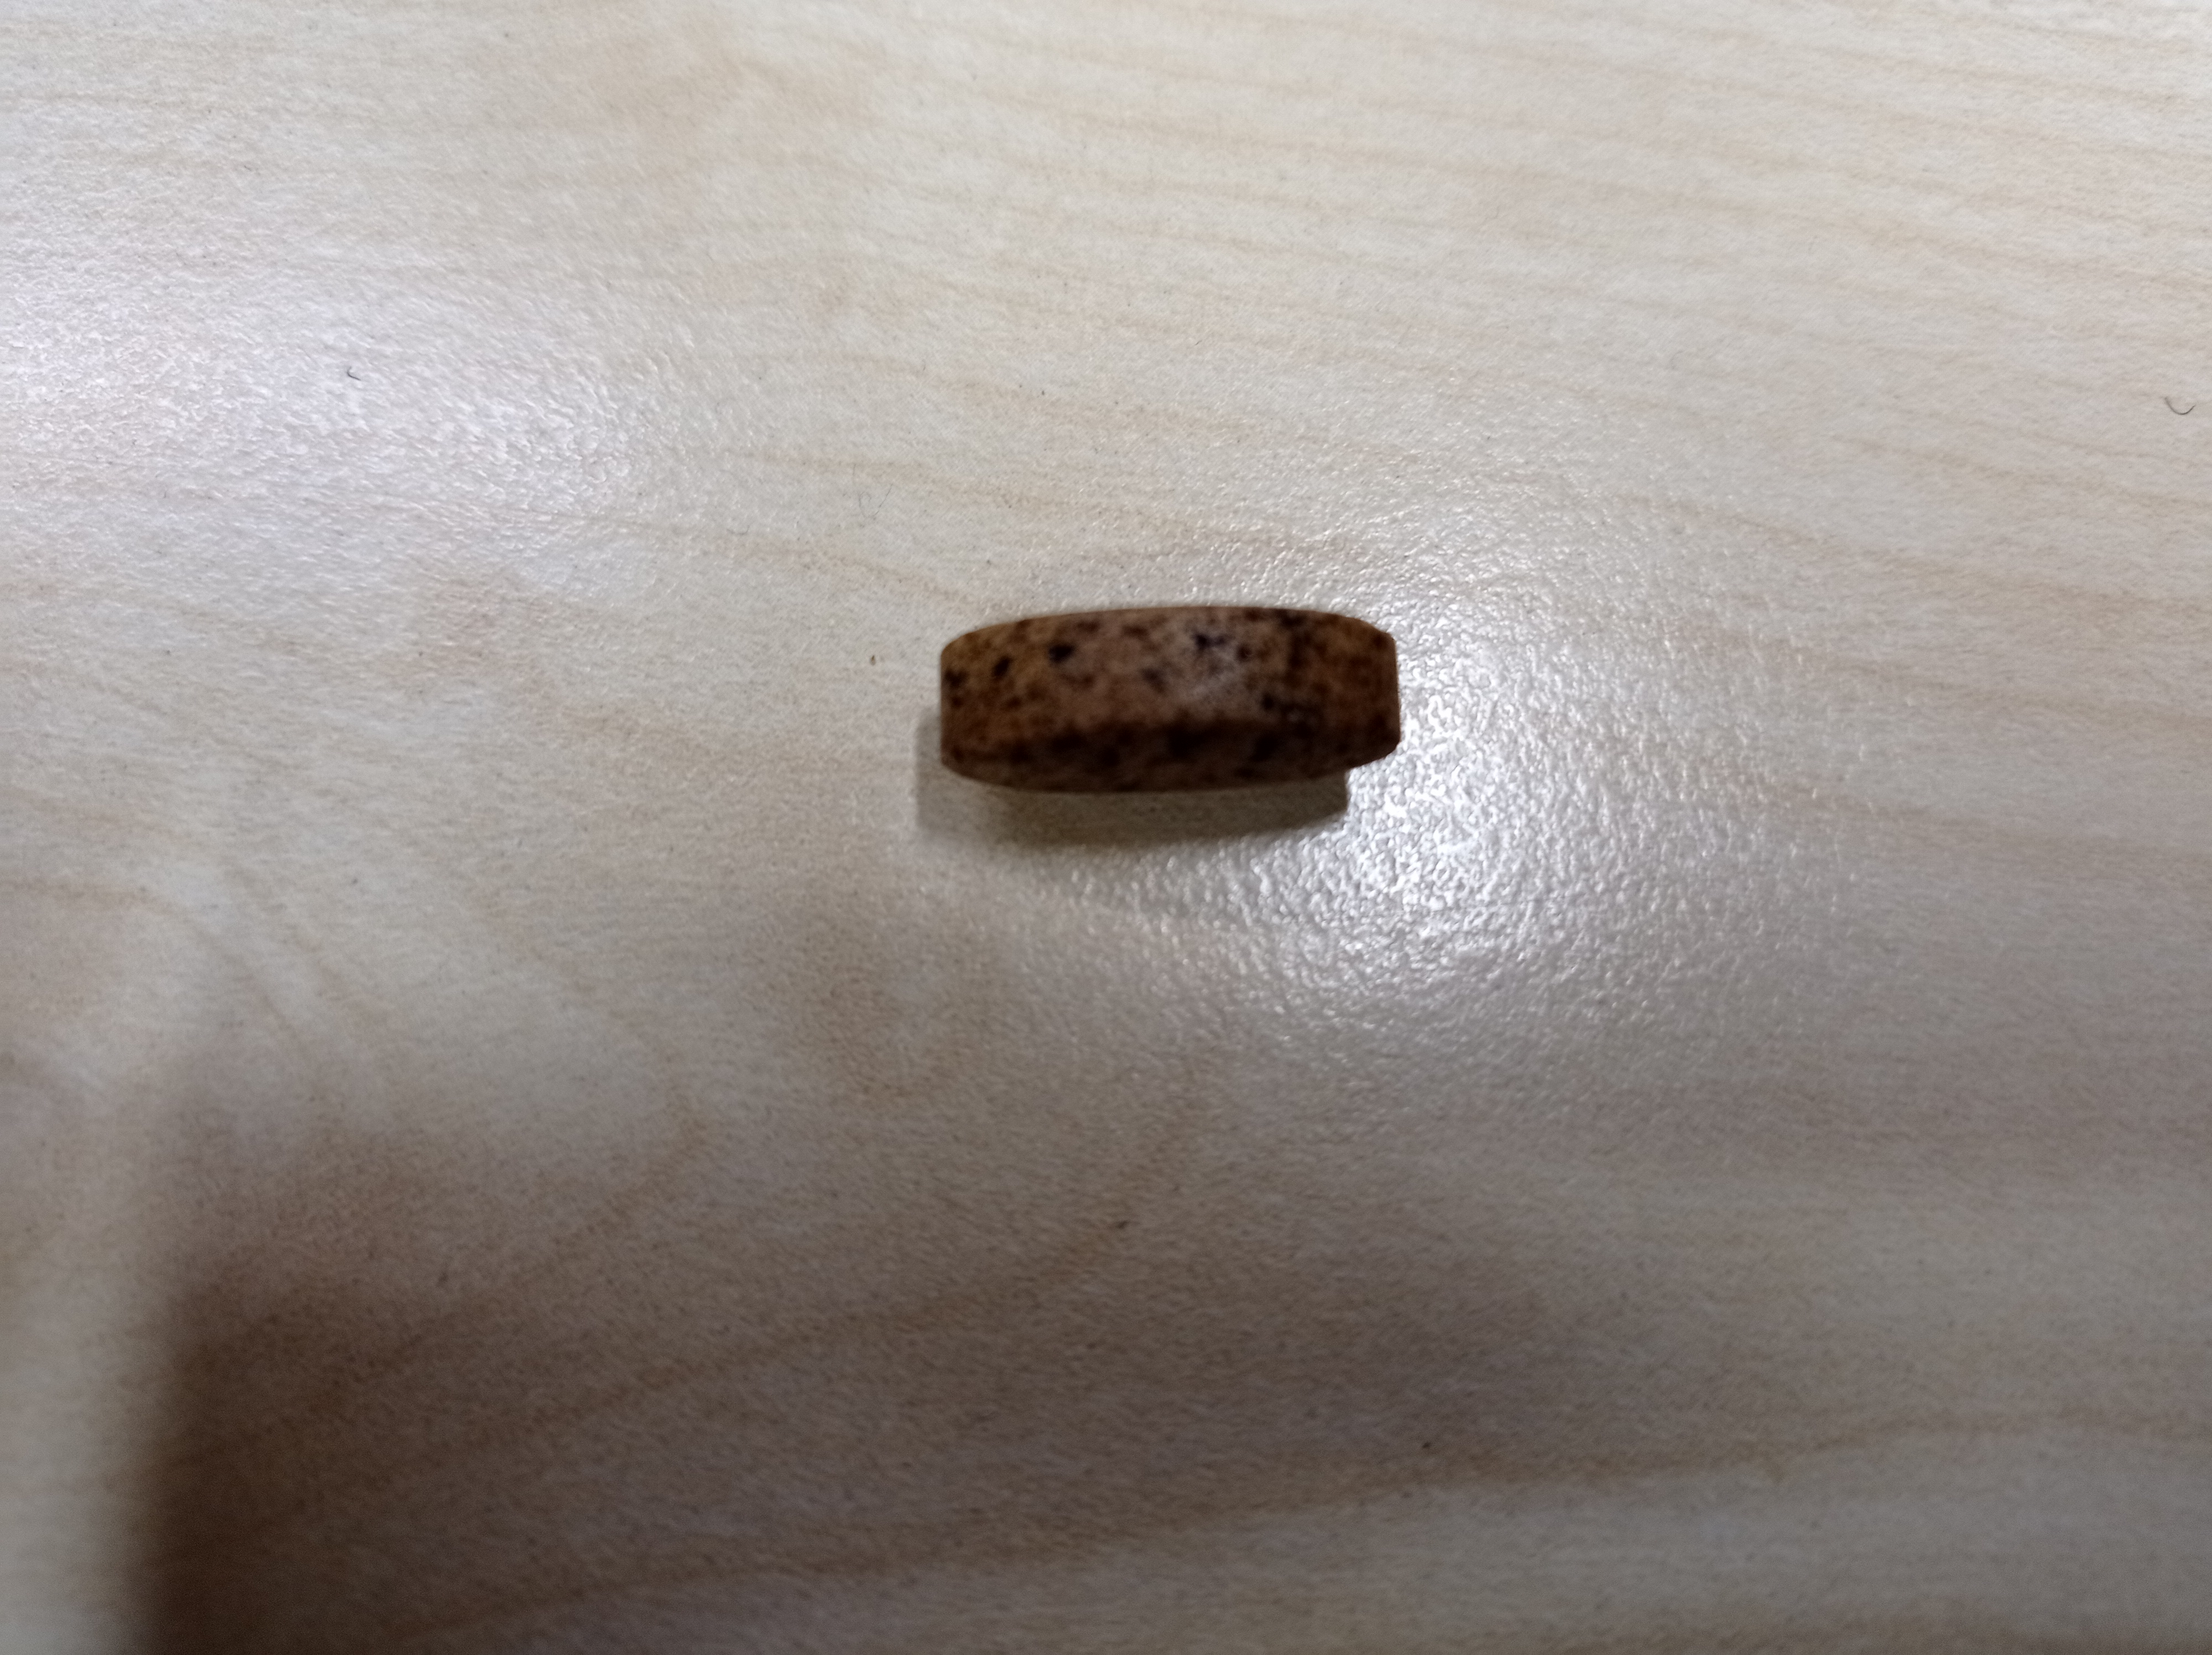brown_medicine: (938, 605, 1407, 794)
